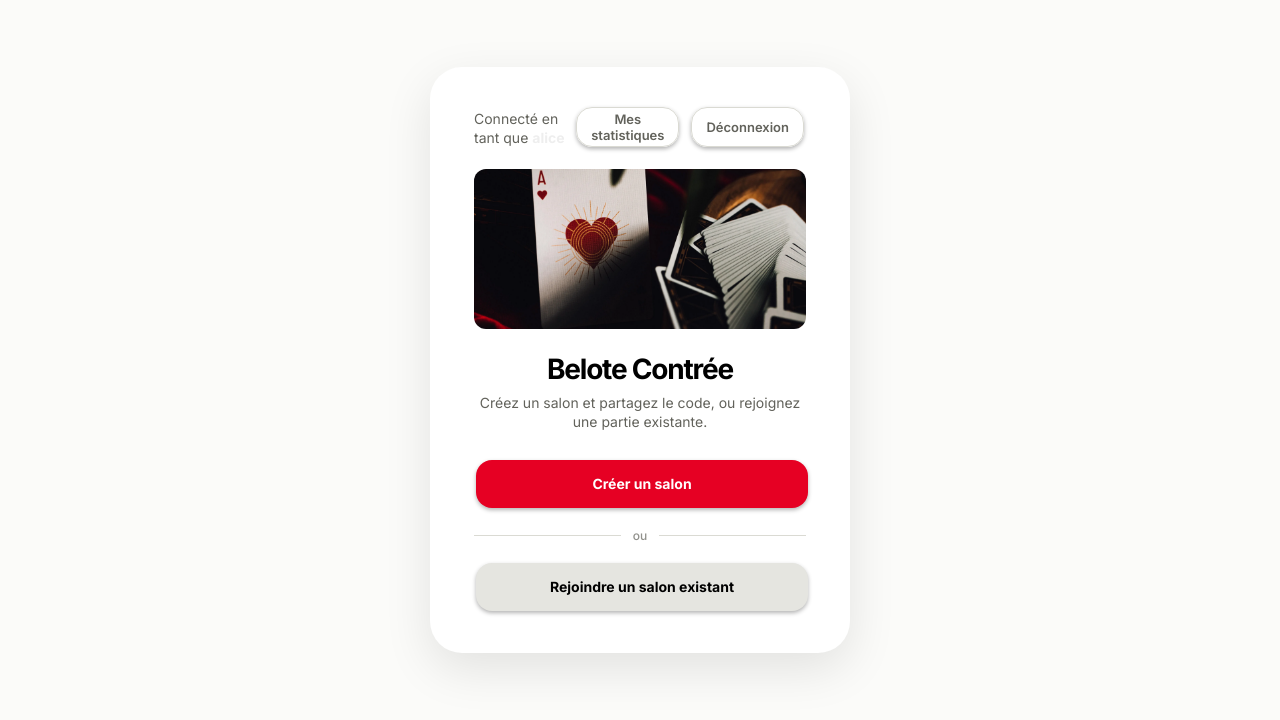
App — rejoindre un salon › supprime mon salon après confirmation et recharge la liste
This screenshot has width=1280, height=720.
Click the button "Rejoindre un salon existant": (642, 587) [476,563,808,611]
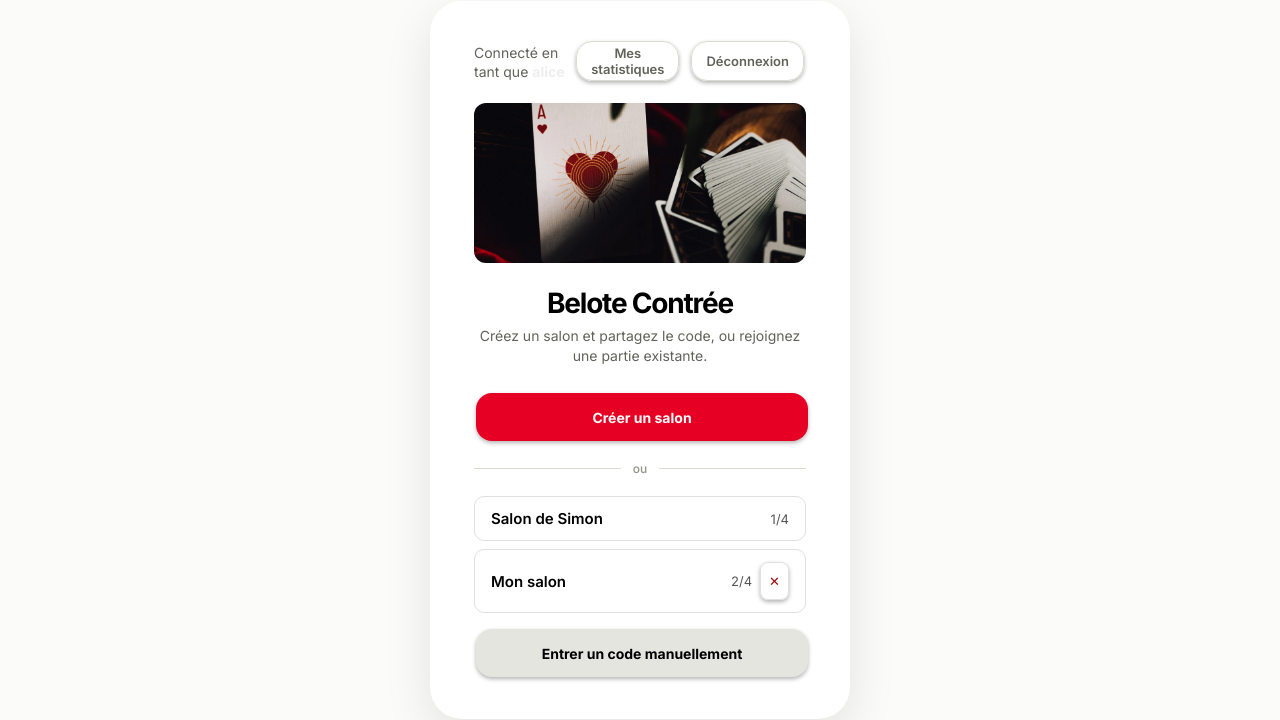
Result: the text "Mon salon" is shown at [491,572,566,591]
Click the button named "Supprimer le salon Mon salon": (775, 581) [760,562,789,600]
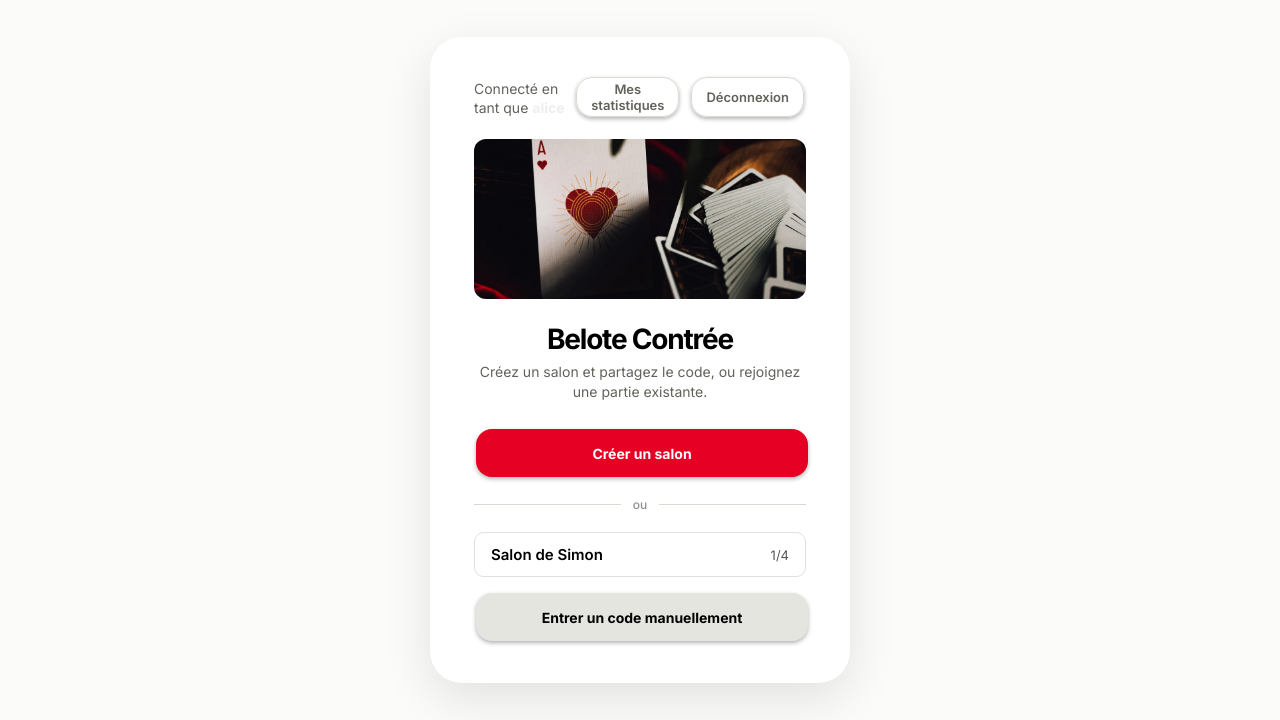
Result: the text "Mon salon" is gone
